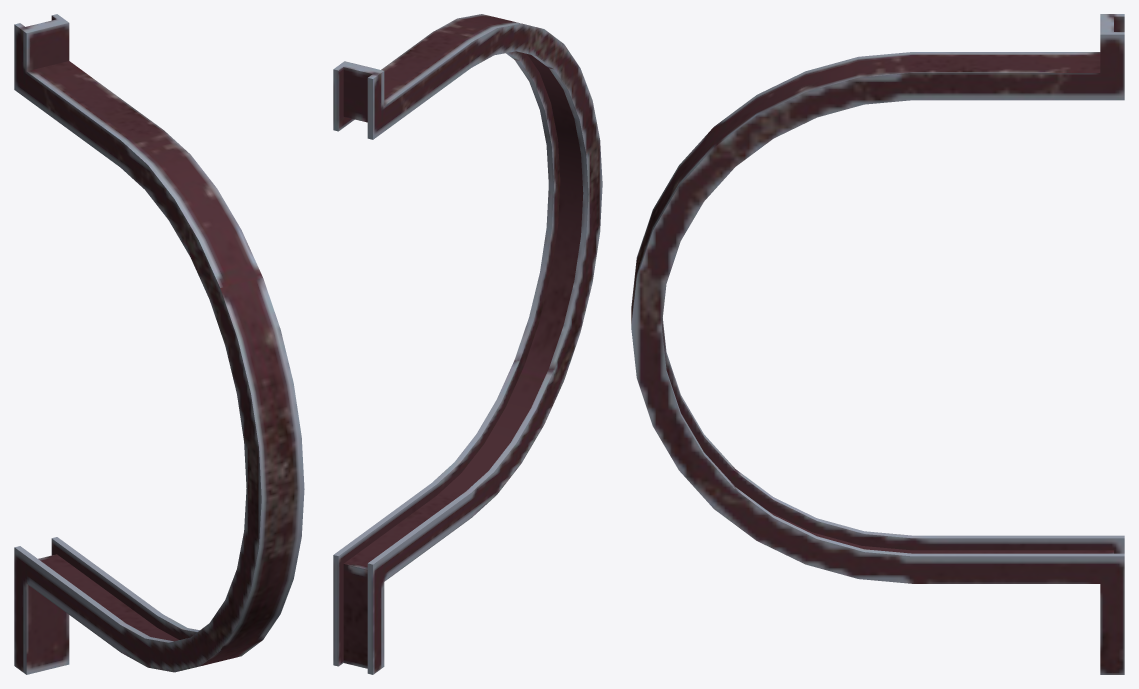
Rendered from beam_hor_floor.fbx.
The picture shows the model from 3 angles, left to right: view 1: azimuth 30°, elevation 25°; view 2: azimuth 150°, elevation 25°; view 3: azimuth 270°, elevation 25°; orthographic projection. The views are drawn at different scales.
Visible parts, largest first — view 1: beam_vert_01.001; view 2: beam_vert_01.001; view 3: beam_vert_01.001.
Boxes of the visible parts, box(x1,y1,x2,y2) form: beam_vert_01.001: box(14, 14, 304, 674); beam_vert_01.001: box(333, 14, 602, 674); beam_vert_01.001: box(631, 14, 1124, 674).
Bounding box in the file's own units: 209 × 2989 × 2088.
